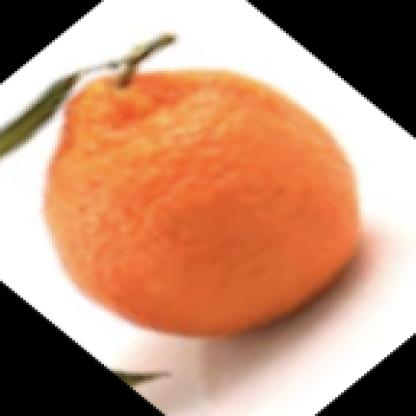fresh: (43, 68, 360, 343)
